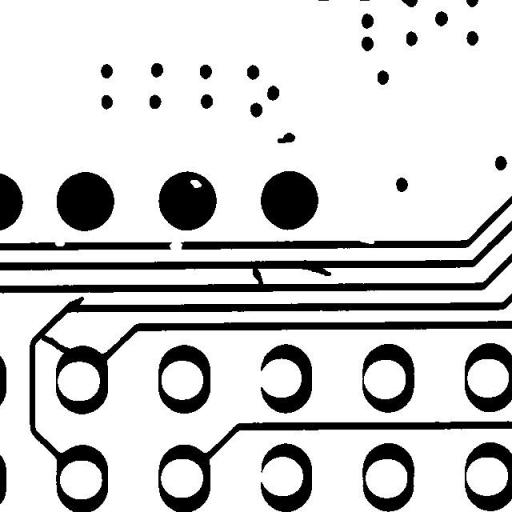copper: (270, 125, 302, 150)
mousebite: (348, 228, 382, 251), (47, 234, 72, 254)
open: (162, 234, 190, 258)
pin-hole: (182, 172, 209, 195)
short: (32, 326, 78, 361), (244, 256, 270, 293)
spur: (294, 252, 338, 283), (58, 289, 91, 316)
